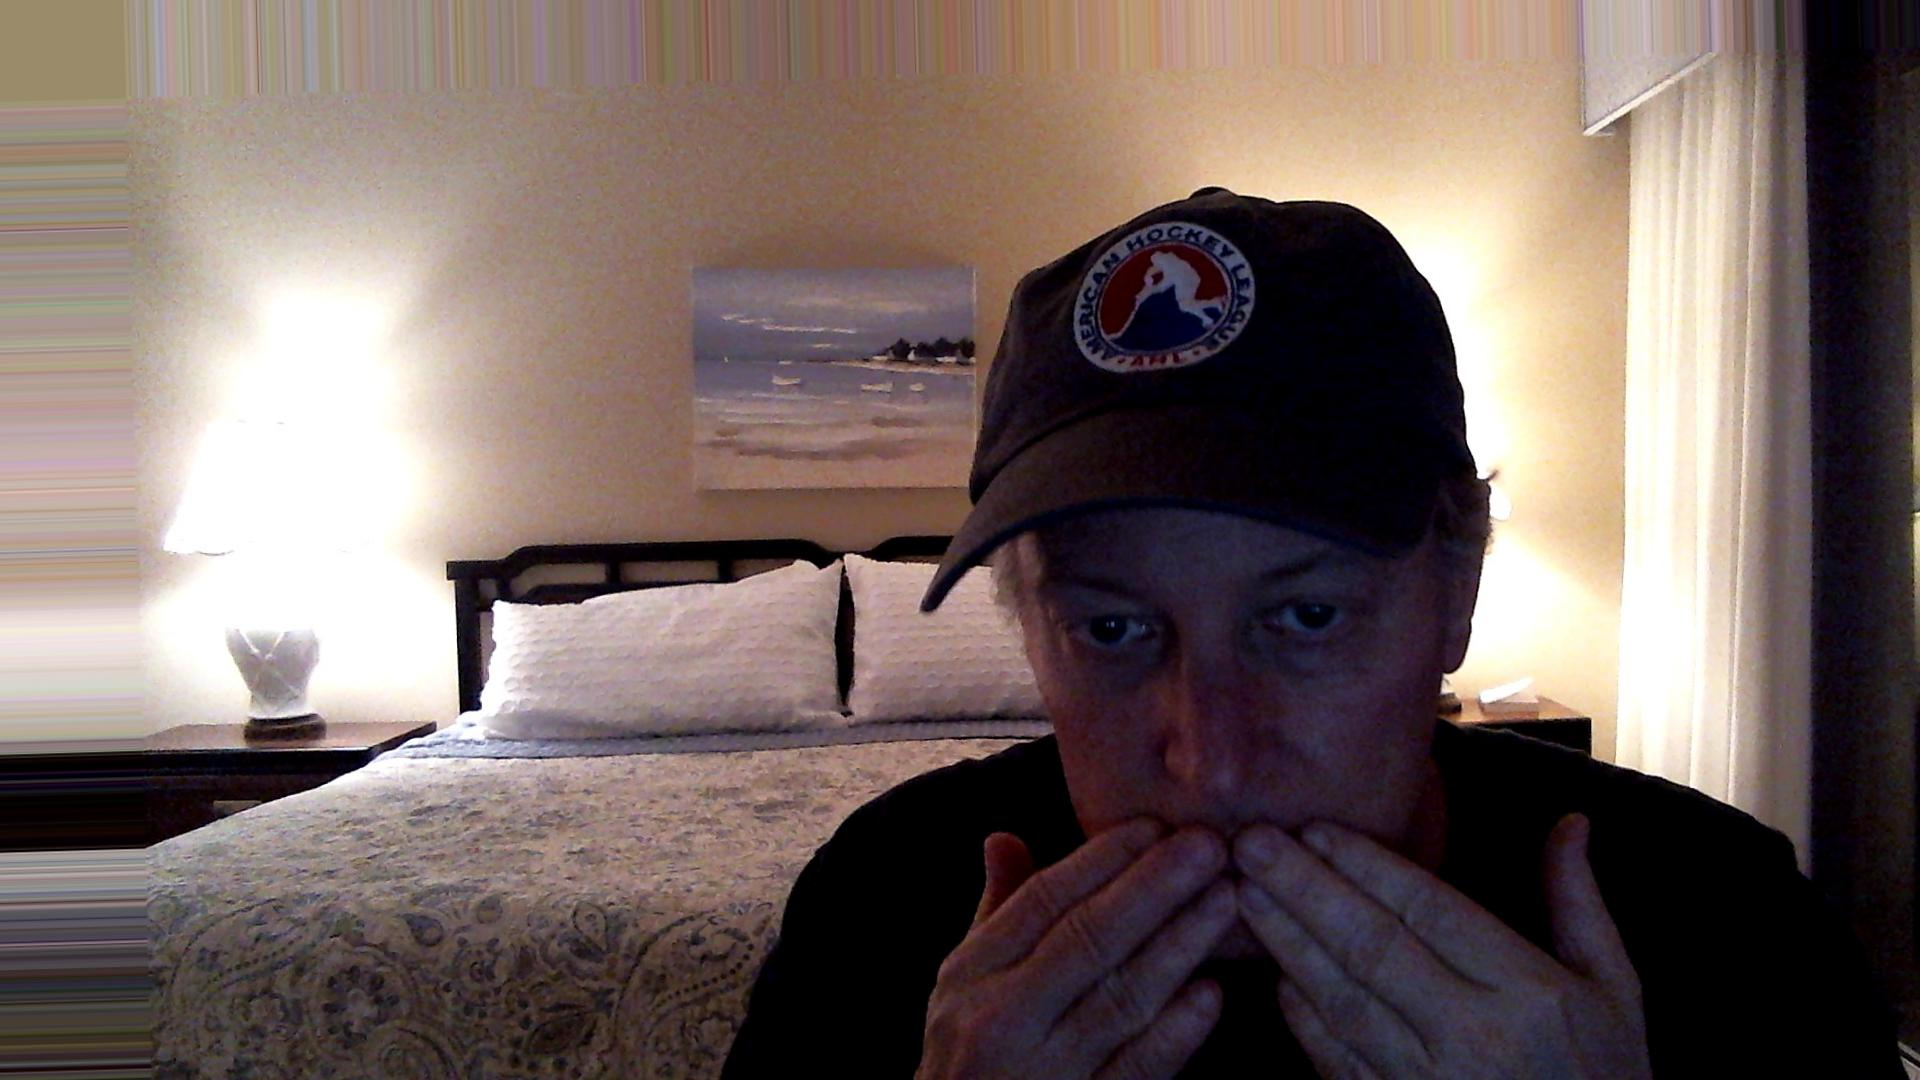Thank You: (887, 767, 1669, 1073)
